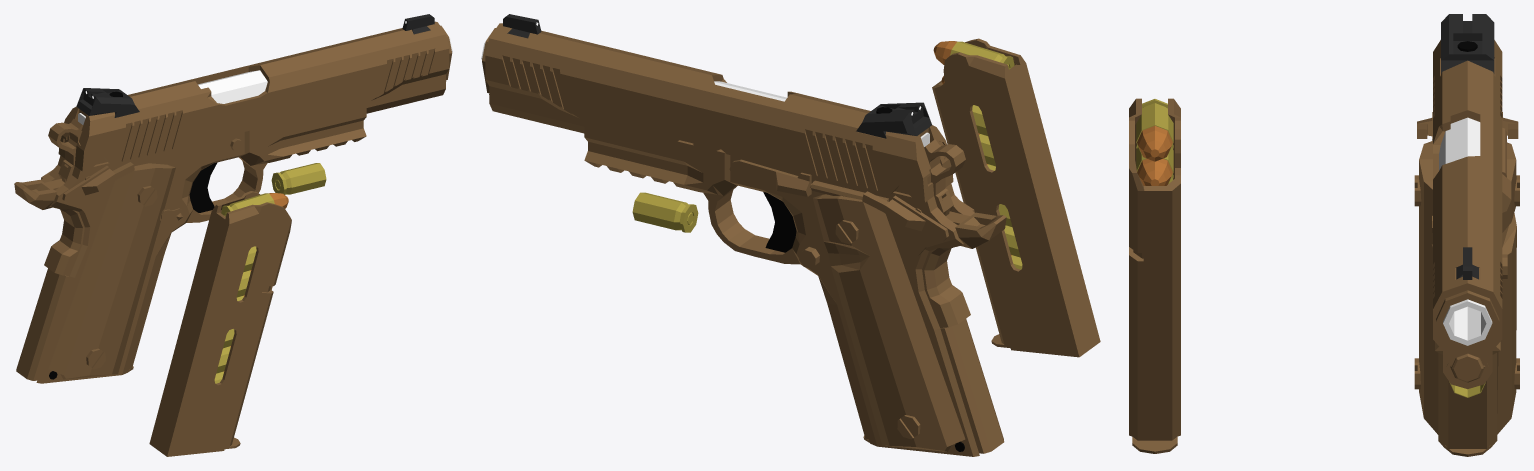
The picture shows the model from 3 angles, left to right: view 1: azimuth 30°, elevation 25°; view 2: azimuth 150°, elevation 25°; view 3: azimuth 270°, elevation 25°; orthographic projection. The views are drawn at different scales.
Parts seen in each view (by area): view 1: colt m45a1 (frame), m45 slide & bolt, 45acp m45 mag 8rnd (colt).001, m45 safety, m45 safety#2, 45acp, m45 hammer, m45 trigga; view 2: colt m45a1 (frame), m45 slide & bolt, 45acp m45 mag 8rnd (colt).001, m45 safety, m45 safety#2, 45acp, m45 bolt release, m45 hammer, m45 trigga; view 3: m45 slide & bolt, 45acp m45 mag 8rnd (colt).001, colt m45a1 (frame), m45 safety#2.
Boxes of the visible parts, x1,y1,x2,y2 form: colt m45a1 (frame): (16, 29, 452, 383); m45 slide & bolt: (58, 14, 452, 171); 45acp m45 mag 8rnd (colt).001: (149, 191, 291, 456); m45 safety: (14, 178, 84, 275); m45 safety#2: (41, 162, 134, 215); 45acp: (271, 163, 326, 194); m45 hammer: (48, 118, 89, 182); m45 trigga: (189, 162, 217, 212); colt m45a1 (frame): (481, 32, 1004, 456); m45 slide & bolt: (482, 14, 953, 202); 45acp m45 mag 8rnd (colt).001: (932, 38, 1100, 357); m45 safety: (922, 211, 1006, 327); m45 safety#2: (862, 191, 974, 255); 45acp: (632, 192, 698, 232); m45 bolt release: (729, 159, 811, 196); m45 hammer: (915, 139, 965, 215); m45 trigga: (763, 192, 796, 252); m45 slide & bolt: (1433, 14, 1502, 389); 45acp m45 mag 8rnd (colt).001: (1129, 98, 1180, 453); colt m45a1 (frame): (1414, 117, 1519, 448); m45 safety#2: (1417, 112, 1518, 140).
Bounding box in the file's own units: 2.3 × 1.46 × 1.25.
